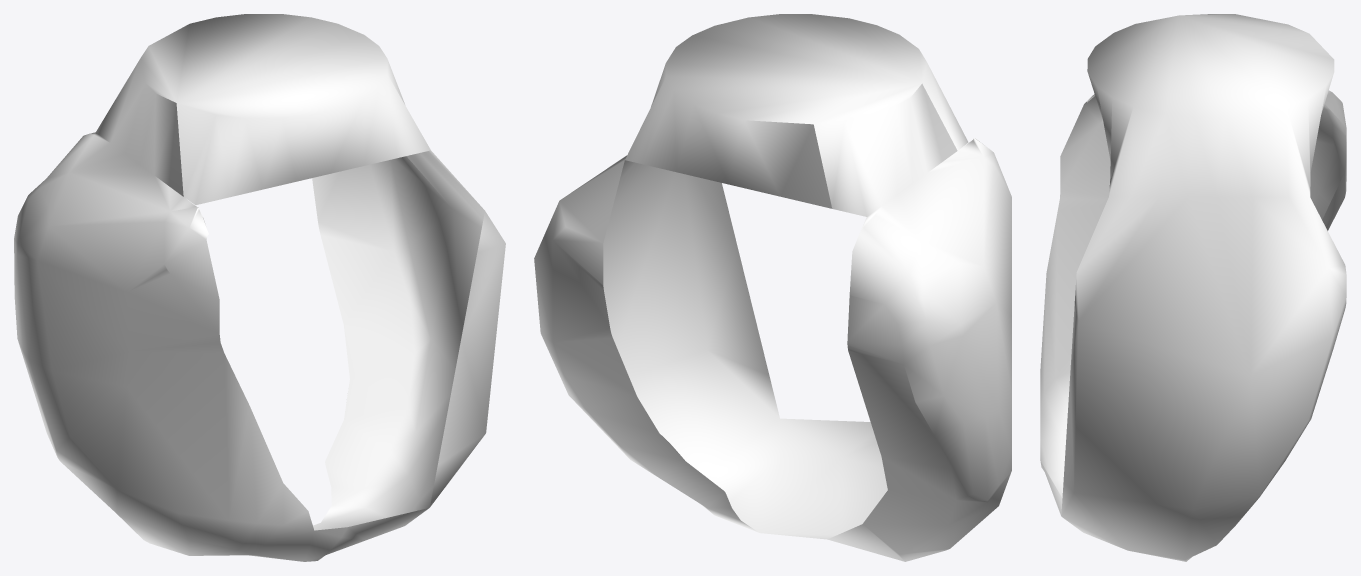
Rendered from lj1_left.dae.
The picture shows the model from 3 angles, left to right: view 1: azimuth 30°, elevation 25°; view 2: azimuth 150°, elevation 25°; view 3: azimuth 270°, elevation 25°; orthographic projection. The views are drawn at different scales.
Parts seen in each view (by area): view 1: Llj1_001; view 2: Llj1_001; view 3: Llj1_001.
Boxes of the visible parts, x1,y1,x2,y2 form: Llj1_001: (14,14,505,561); Llj1_001: (534,14,1011,561); Llj1_001: (1040,14,1346,561).
Size of the model in its own units: 0.236 by 0.1486 by 0.245.
1 material, 1 textured.
